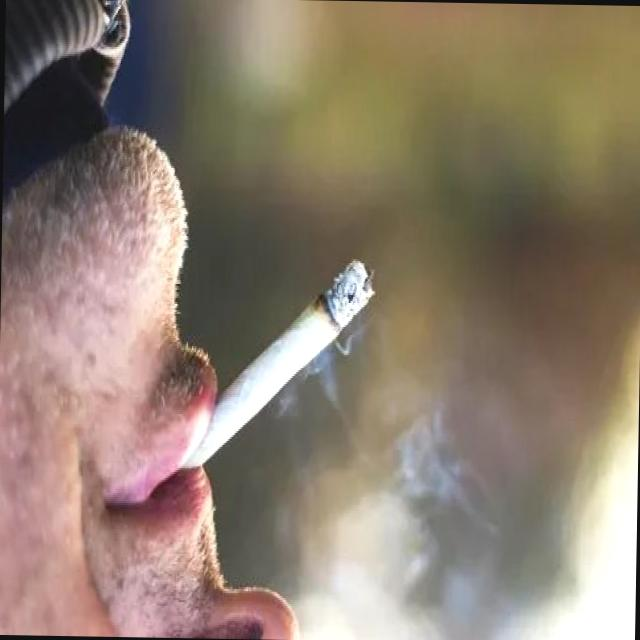smoke: (177, 248, 376, 483)
